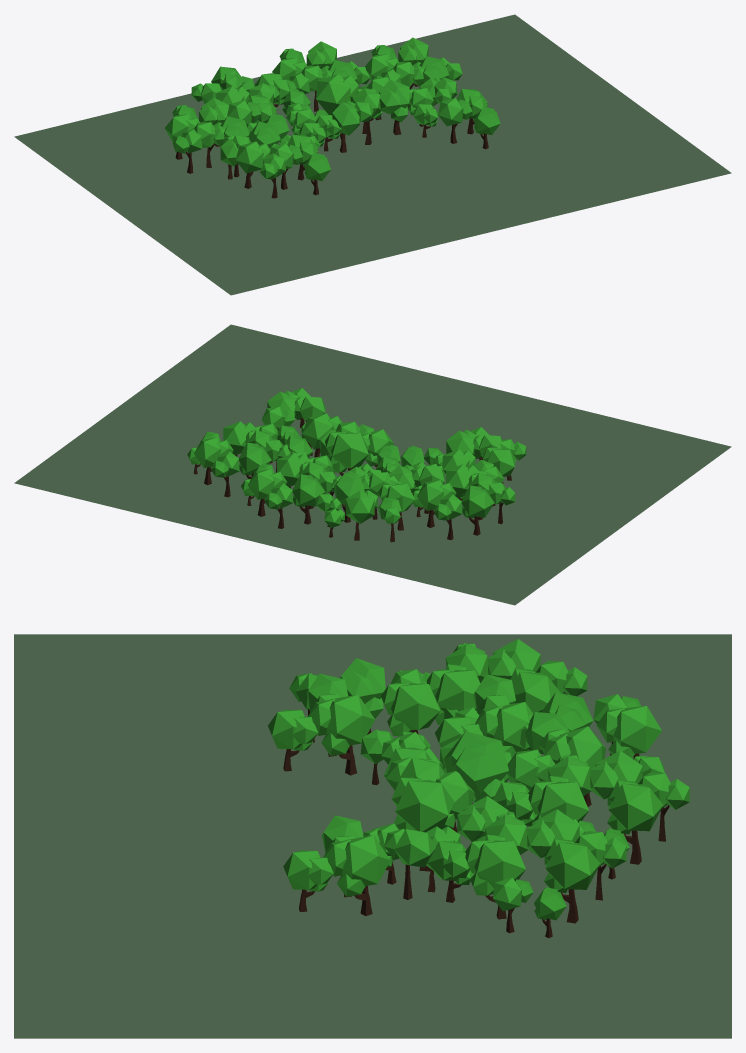
File: Map.FBX
3 renders of one model, top to bottom at view 1: azimuth 30°, elevation 25°; view 2: azimuth 150°, elevation 25°; view 3: azimuth 270°, elevation 25°, orthographic. The views are drawn at different scales.
Parts seen in each view (by area): view 1: Plane003, Tree-024; view 2: Plane003, Tree-024; view 3: Plane003, Tree-024.
Part boxes in pixels (x1=…): Plane003: x1=14, y1=14, x2=731, y2=295; Tree-024: x1=164, y1=37, x2=500, y2=198; Plane003: x1=14, y1=324, x2=731, y2=605; Tree-024: x1=187, y1=388, x2=526, y2=542; Plane003: x1=14, y1=634, x2=731, y2=1038; Tree-024: x1=268, y1=639, x2=689, y2=937.
Bounding box in the file's own units: 1600 × 179 × 1200.
